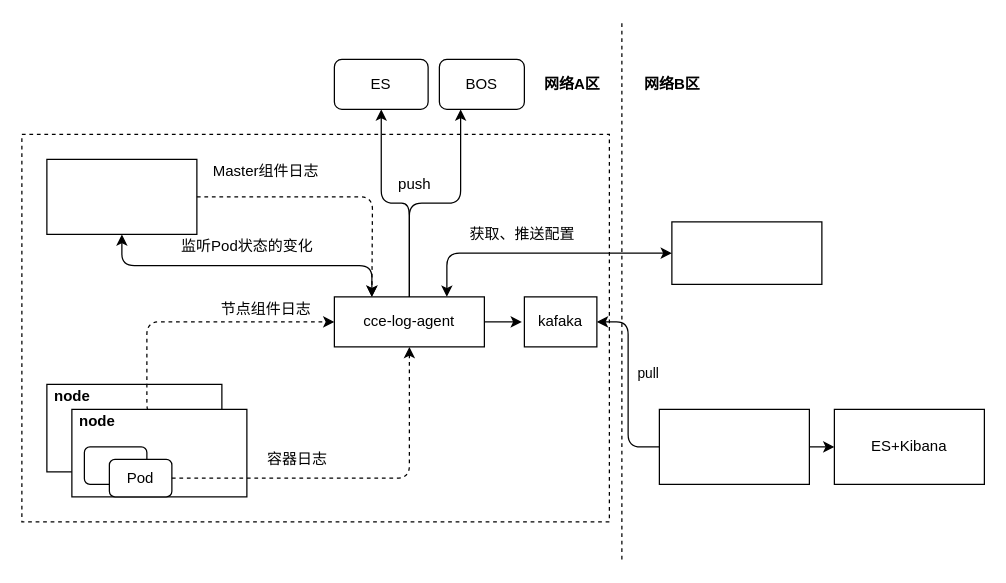
The diagram is 1006 pixels wide and 583 high, and some of its shapes have lost their labels. Each missing label, with the box of its shape:
cce-monitor: (671, 221, 822, 284)
fetcher: (658, 408, 809, 484)
master: (46, 158, 197, 234)
